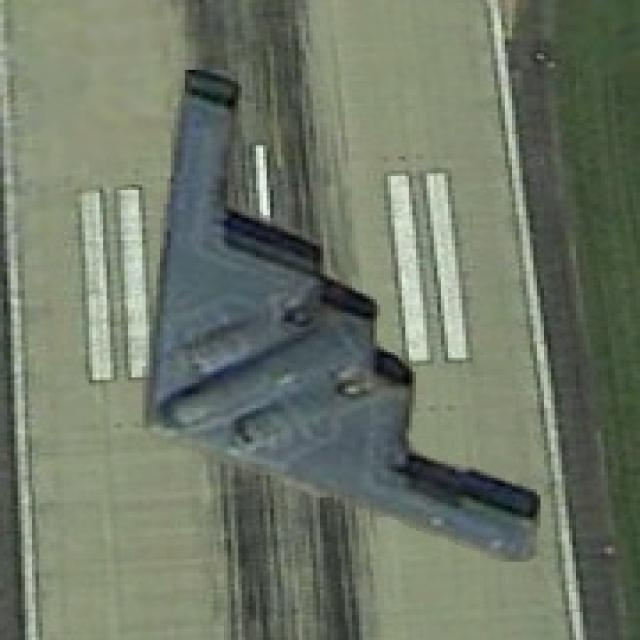B-2_TopDown: (132, 62, 544, 564)
